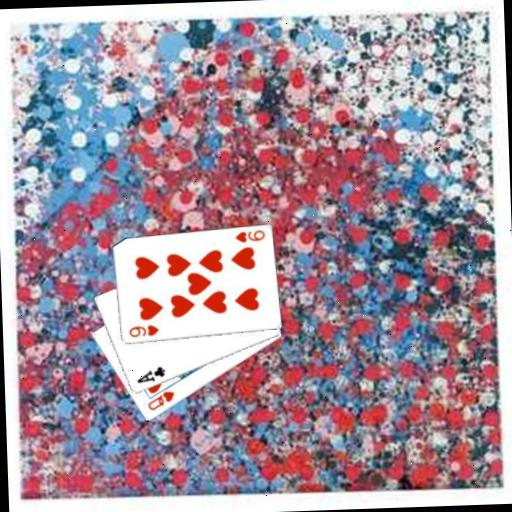9H: (124, 321, 160, 339), (231, 227, 266, 245)
AC: (133, 364, 167, 385)
QH: (143, 388, 176, 413)
